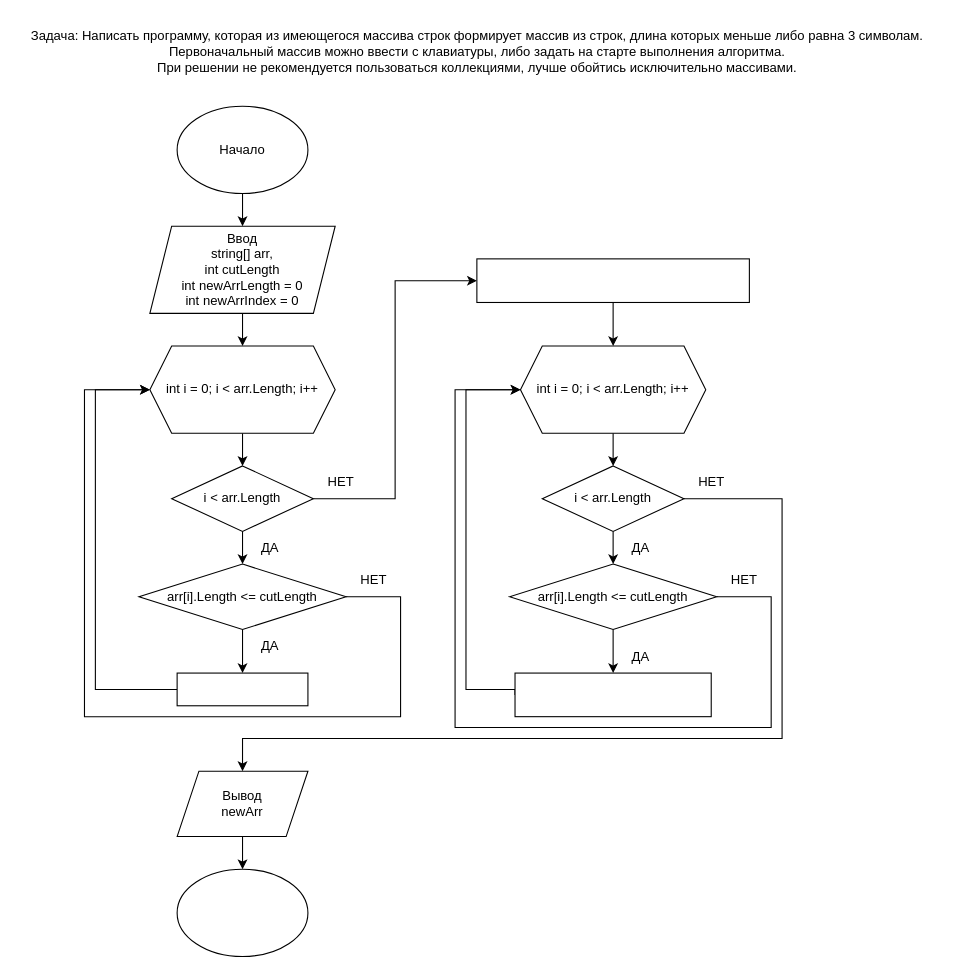
Some shapes in this 953 by 976 pixel diagram are drawn without their labels. Each missing label, with the centre of its shape:
"newArr[newArrIndex] = arr[i]; newArrIndex++;" belongs at point (612, 694).
"newArrLength++" belongs at point (242, 689).
"string[] newArr = new string[newArrLength]" belongs at point (612, 280).
"Конец" belongs at point (242, 912).
